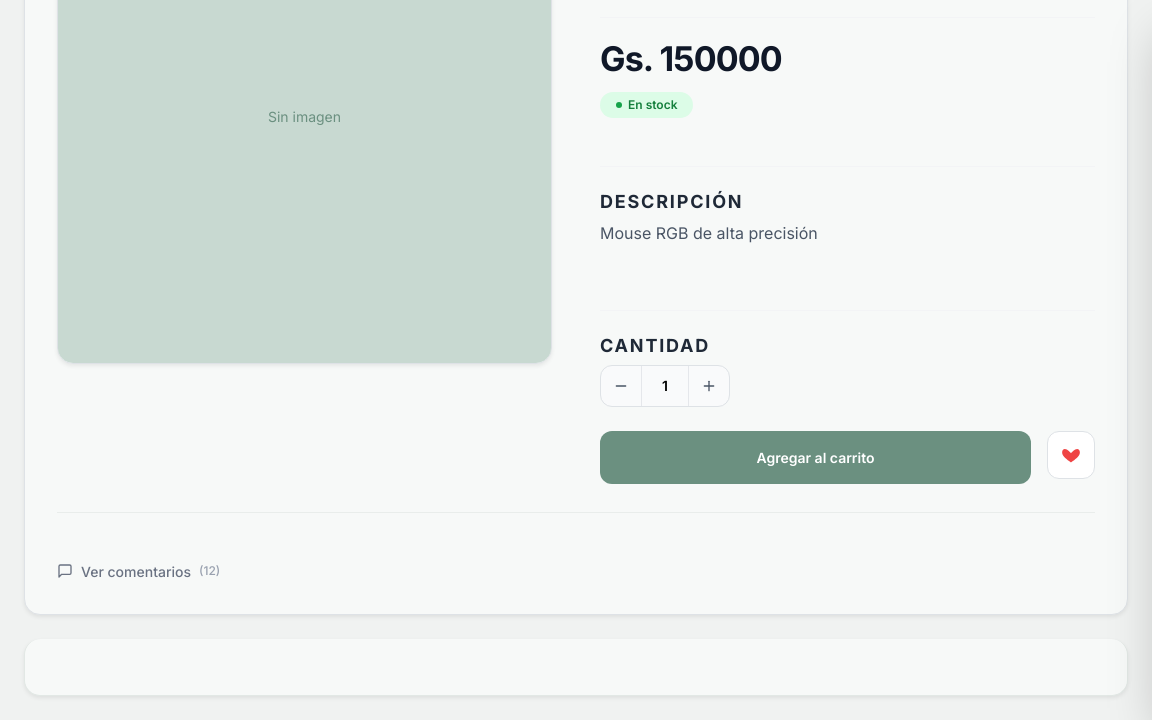
it: DetalleProducto › abre el modal de lista de deseos al hacer clic en el botón de favoritos
The width and height of the screenshot is (1152, 720).
(page scrolled)
Click the button named "agregar a favoritos" at (1071, 455), box [1047, 431, 1095, 479]
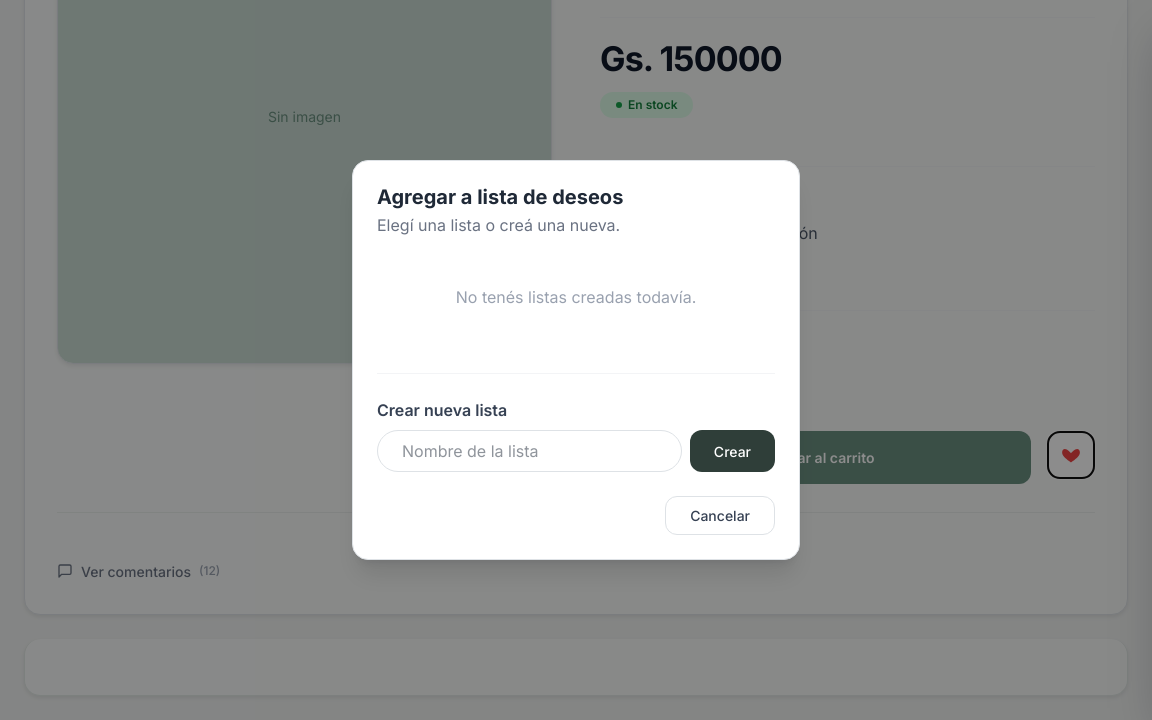
expect the heading "Agregar a lista de deseos" is shown: met, box [377, 185, 623, 209]
